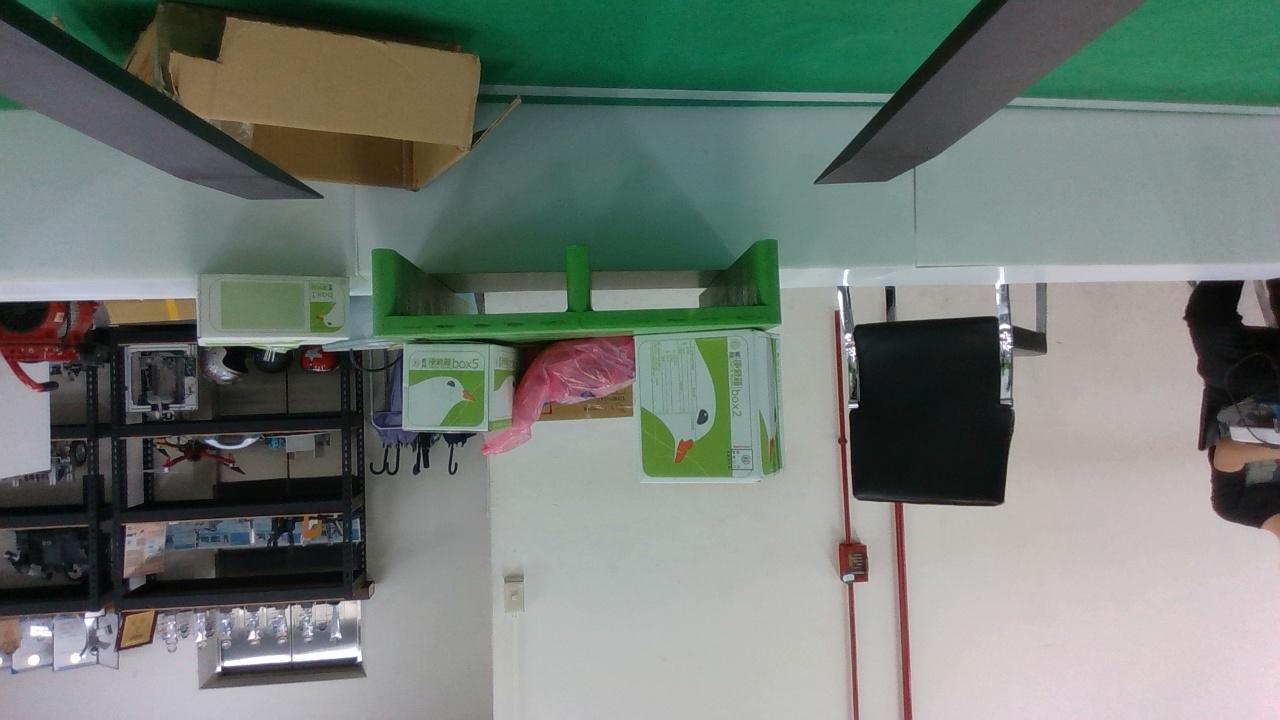Pallet: (370, 240, 784, 337)
